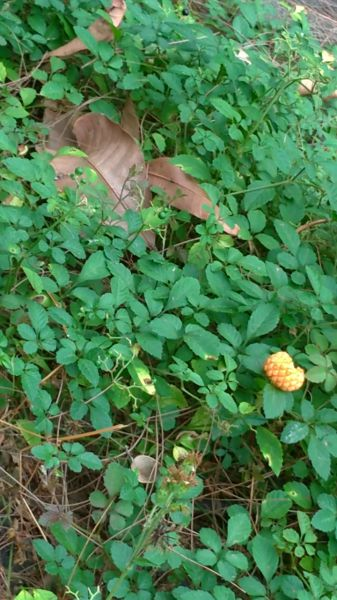eggs: (260, 347, 309, 396)
